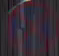No Stopping: (7, 1, 52, 49)
